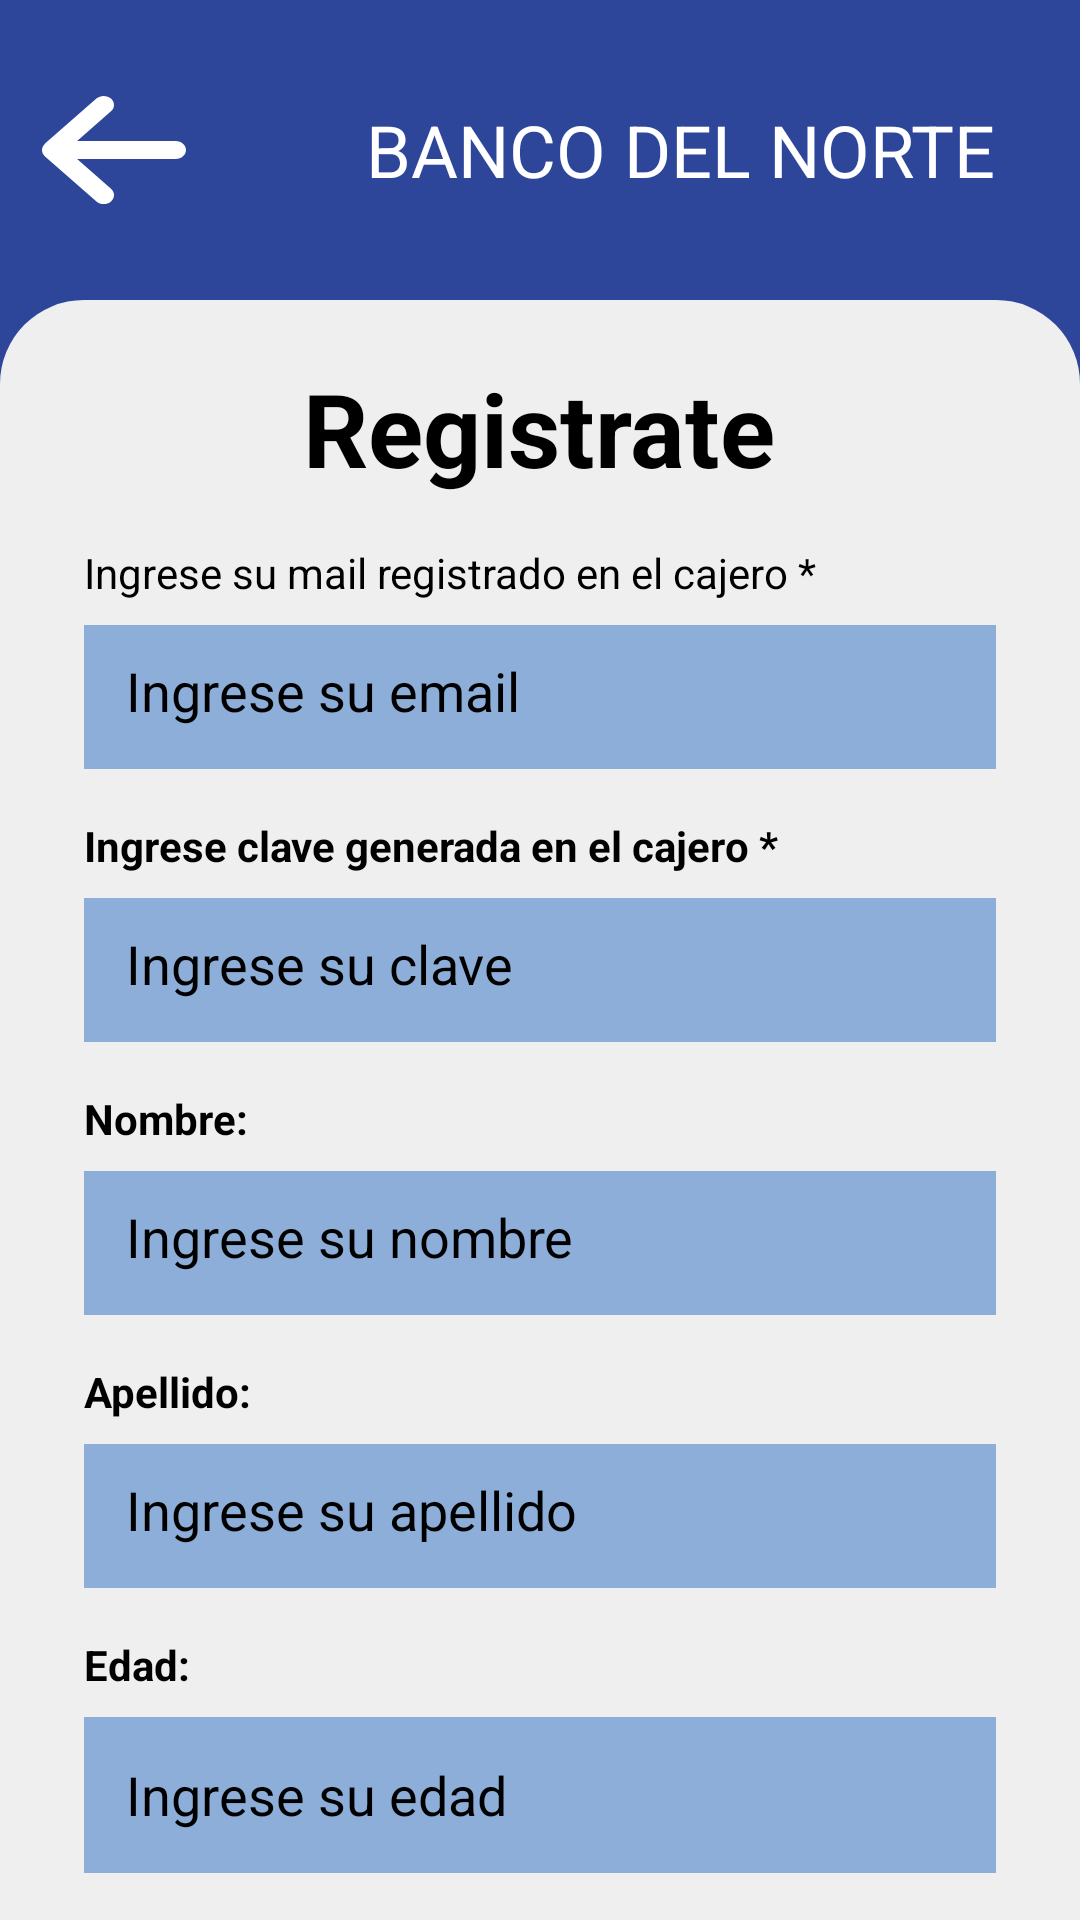

Icon bounding boxes for this 1080px×1920px phone screenshot, format (x1, y1, x2, y2):
Volver: (42, 96, 186, 204)
